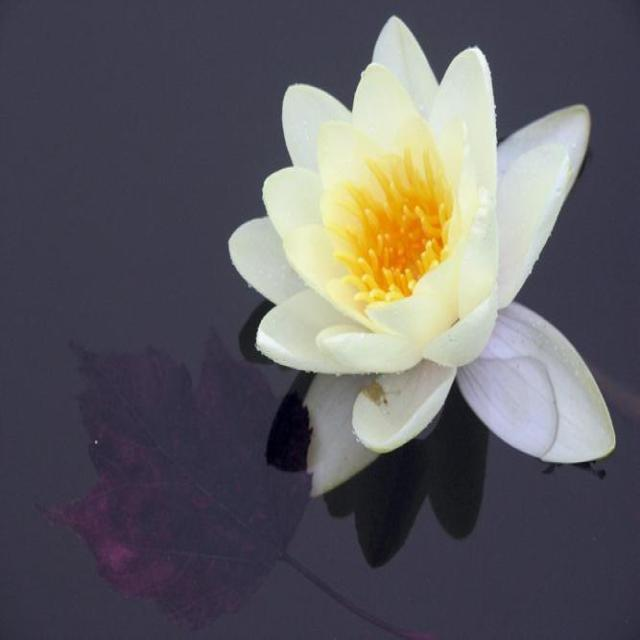water-lily: (213, 5, 606, 543)
